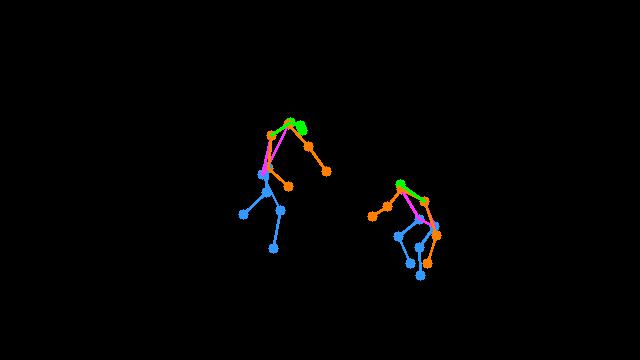normal: (228, 104, 340, 267), (362, 174, 452, 286)
